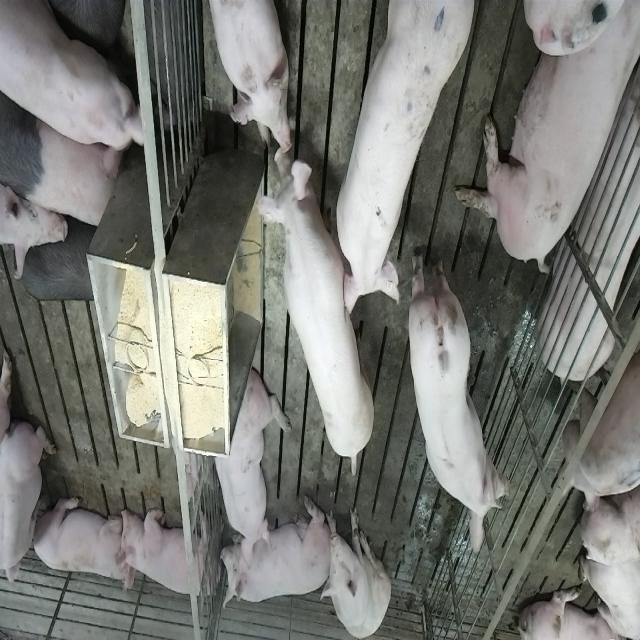Lateral_lying: (453, 0, 636, 273), (537, 61, 640, 382)
Sitting: (324, 502, 392, 638)
Standing: (333, 0, 482, 305), (258, 145, 378, 468), (406, 240, 512, 554), (2, 0, 146, 165), (560, 264, 640, 518), (2, 66, 123, 232)
Sternal_lying: (210, 366, 284, 556), (203, 2, 290, 157), (220, 502, 326, 612), (117, 502, 215, 602), (2, 417, 56, 597), (31, 491, 130, 588)
